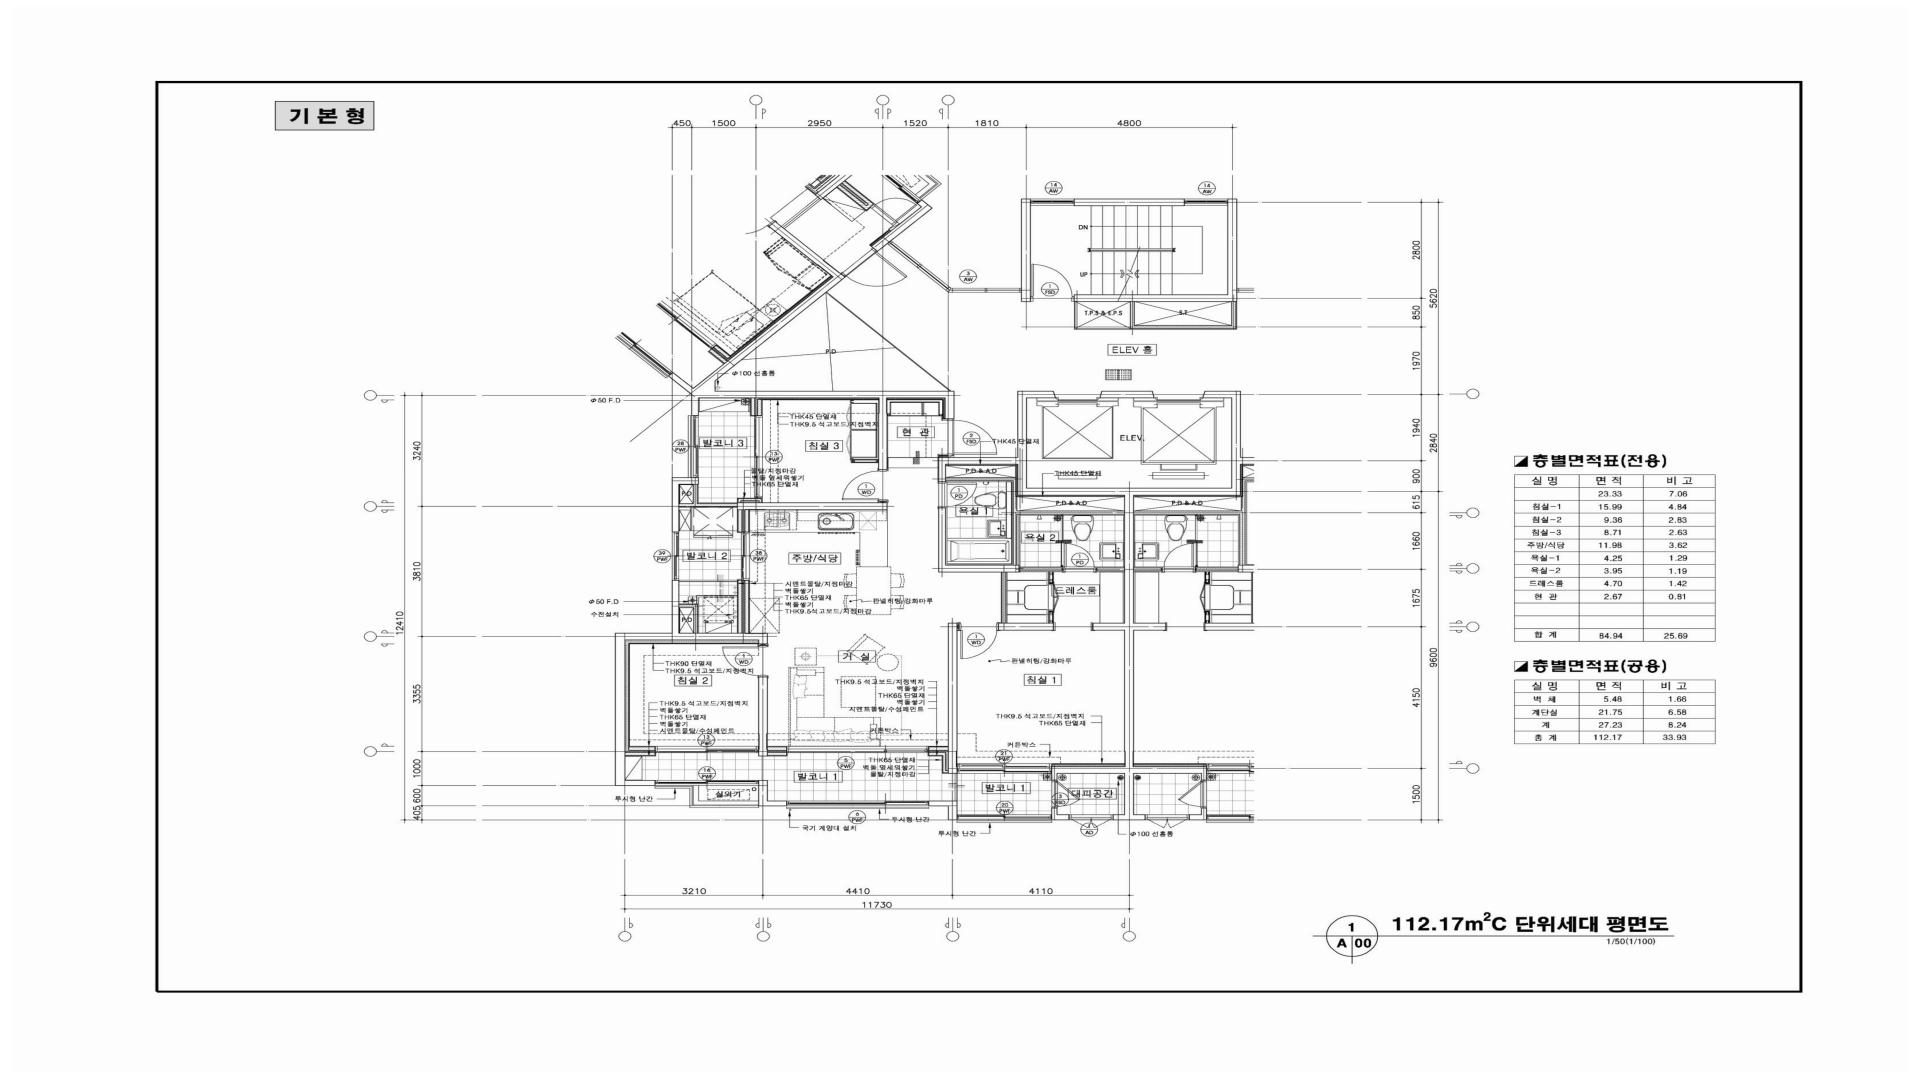door: (948, 419, 998, 455), (1031, 264, 1075, 302), (721, 645, 769, 676), (959, 622, 998, 659), (843, 469, 887, 501), (938, 483, 977, 508), (1064, 543, 1096, 572), (1051, 781, 1080, 807)
wall: (938, 390, 1241, 820), (688, 272, 955, 469), (615, 580, 767, 786), (1073, 199, 1237, 302), (825, 291, 952, 390), (872, 203, 932, 252), (692, 781, 786, 806), (948, 622, 959, 774), (671, 477, 699, 533), (737, 501, 887, 510), (1021, 199, 1031, 302), (758, 676, 767, 757), (1075, 199, 1184, 206), (939, 564, 1019, 572), (928, 800, 957, 820), (938, 508, 945, 564), (998, 622, 1054, 630), (1017, 510, 1125, 514), (928, 752, 948, 773), (1100, 392, 1155, 398), (1013, 481, 1017, 564), (744, 580, 749, 633), (737, 580, 742, 633), (945, 477, 1015, 481), (1134, 326, 1237, 328), (1051, 807, 1069, 820), (679, 504, 737, 508), (1077, 328, 1236, 330), (1002, 572, 1006, 622), (1019, 567, 1064, 571), (1232, 302, 1237, 326), (625, 752, 655, 756), (744, 510, 749, 533), (737, 510, 742, 533), (851, 459, 878, 463), (1073, 302, 1077, 330), (628, 746, 655, 750), (1130, 302, 1134, 328), (737, 498, 762, 502), (694, 608, 698, 633), (692, 485, 698, 504), (757, 400, 762, 415), (767, 752, 787, 756), (767, 746, 787, 750), (928, 746, 948, 750), (1096, 568, 1125, 571), (679, 604, 698, 608), (750, 398, 754, 415), (1048, 611, 1054, 622), (1048, 572, 1054, 584)
window: (654, 786, 758, 808), (786, 800, 928, 808), (957, 764, 1051, 774), (916, 264, 951, 291), (787, 746, 928, 753), (887, 241, 922, 268), (957, 814, 1051, 823), (655, 746, 758, 753), (754, 415, 762, 498), (688, 415, 699, 477), (1069, 815, 1113, 828), (655, 781, 758, 786), (741, 533, 749, 580), (673, 533, 679, 580), (1184, 199, 1228, 206), (1031, 199, 1075, 206), (947, 287, 986, 293), (986, 287, 1021, 293)
